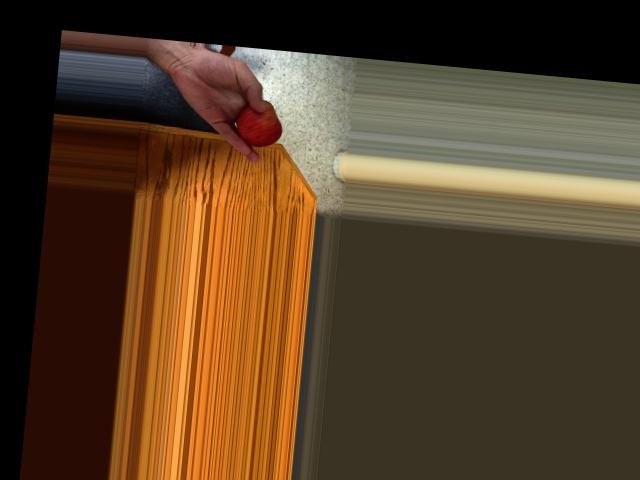apple: (227, 95, 289, 149)
